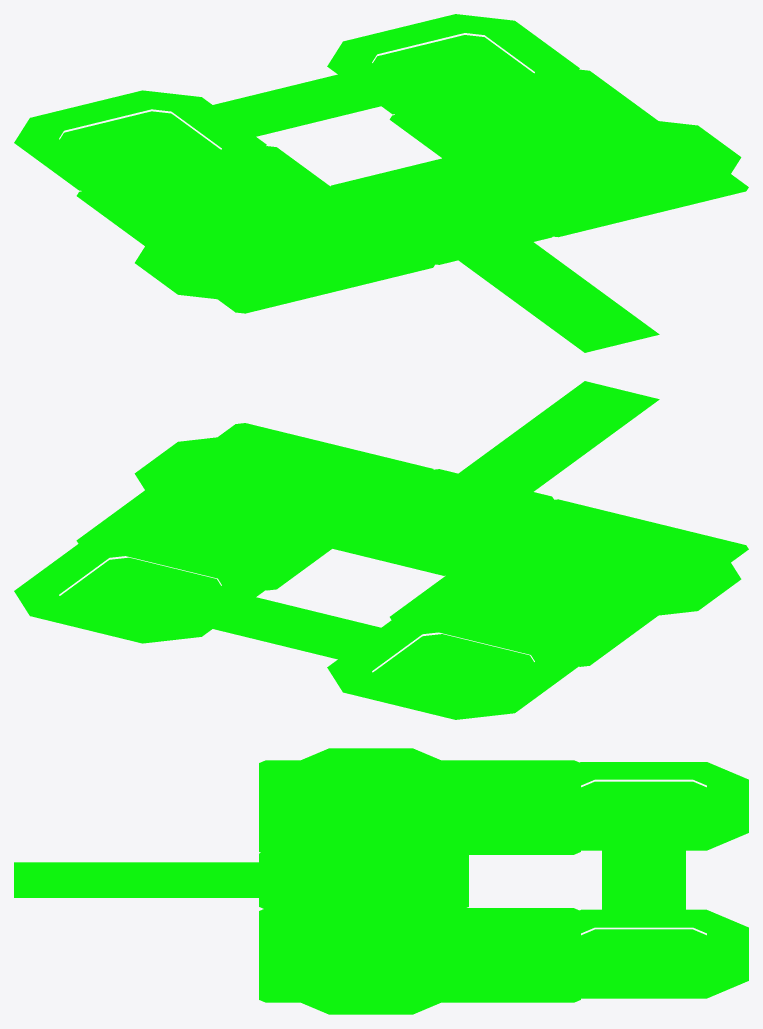
The model's file is s06b_nc2-floor.glb.
3 renders of one model, top to bottom at view 1: azimuth 30°, elevation 25°; view 2: azimuth 150°, elevation 25°; view 3: azimuth 270°, elevation 25°, orthographic. The views are drawn at different scales.
Parts seen in each view (by area): view 1: collision_floor-colonly; view 2: collision_floor-colonly; view 3: collision_floor-colonly.
Boxes of the visible parts, box(x1,y1,x2,y2) form: collision_floor-colonly: box(14, 14, 748, 352); collision_floor-colonly: box(14, 381, 748, 719); collision_floor-colonly: box(14, 748, 748, 1014).
Size of the model in its own units: 45 by 0.1504 by 52.5.
